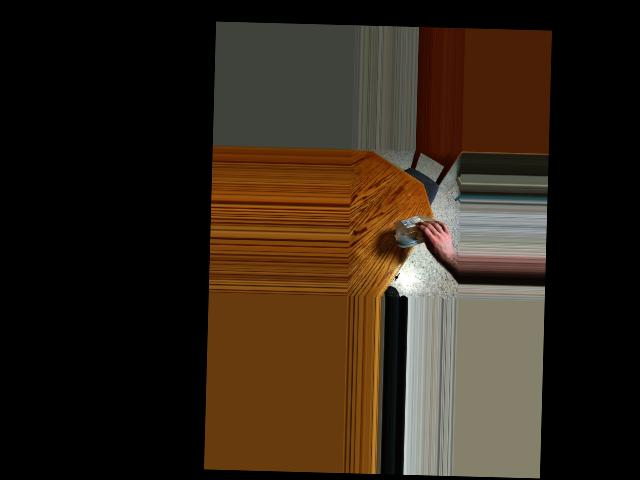cheese: (407, 216, 445, 249)
